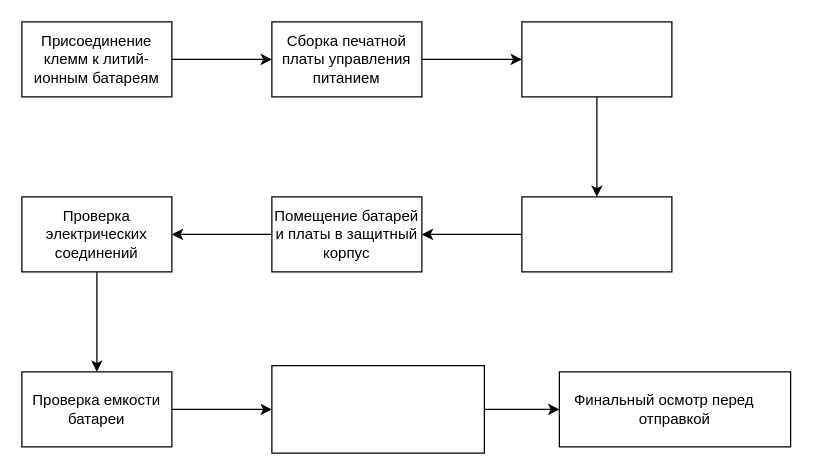
Image size: 813x475. Some labels were removed from this diagram. The centre of each missing label's shape, as x and y in pixels:
"Имя бренда или другое оформление наносятся на защитный корпус" goes at pixel 377 408.
"Присоединение батарей к печатной плате путем пайки" goes at pixel 596 59.
"Тестирование для определения тока и напряжения" goes at pixel 596 234.
